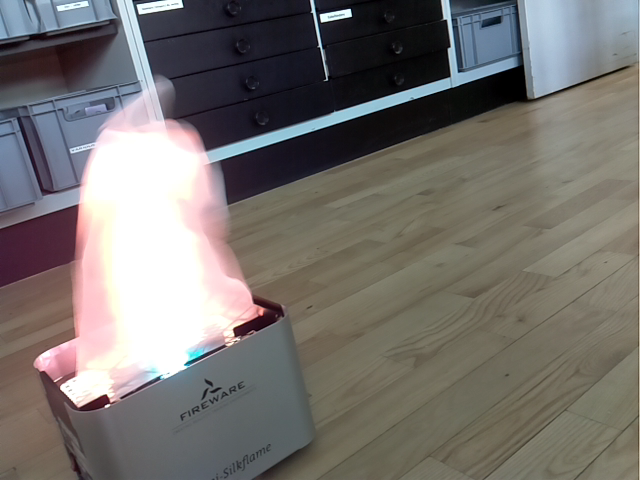fire: (72, 74, 260, 407)
